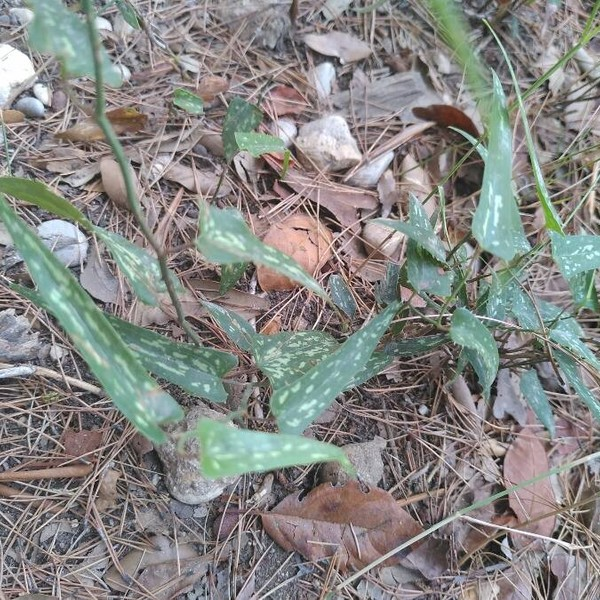obstacle: (43, 172, 434, 495), (421, 104, 567, 422)
